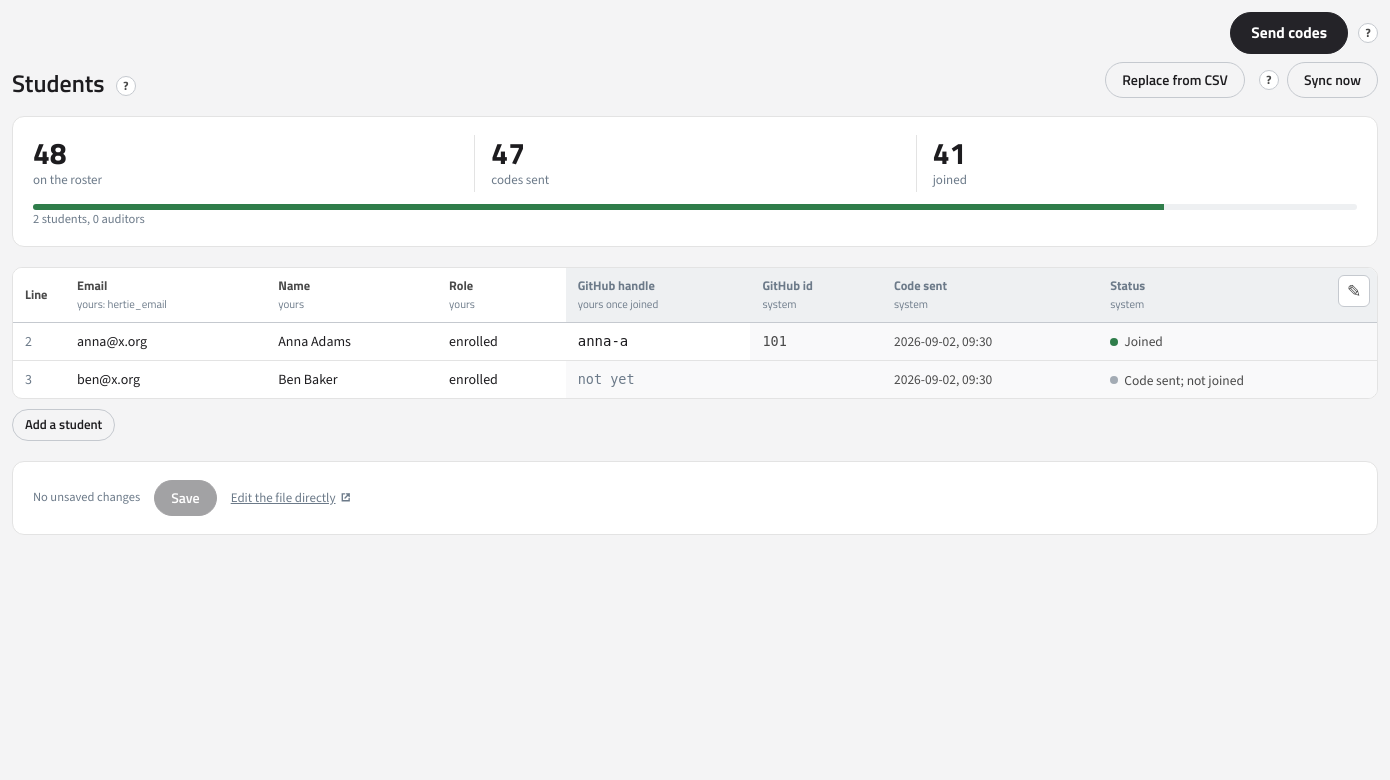
Test case: Save on the Students grid › writes nothing for a handle no GitHub account has
The width and height of the screenshot is (1390, 780).
Click the button named "Edit roster": [1354, 291] box [1338,275,1370,307]
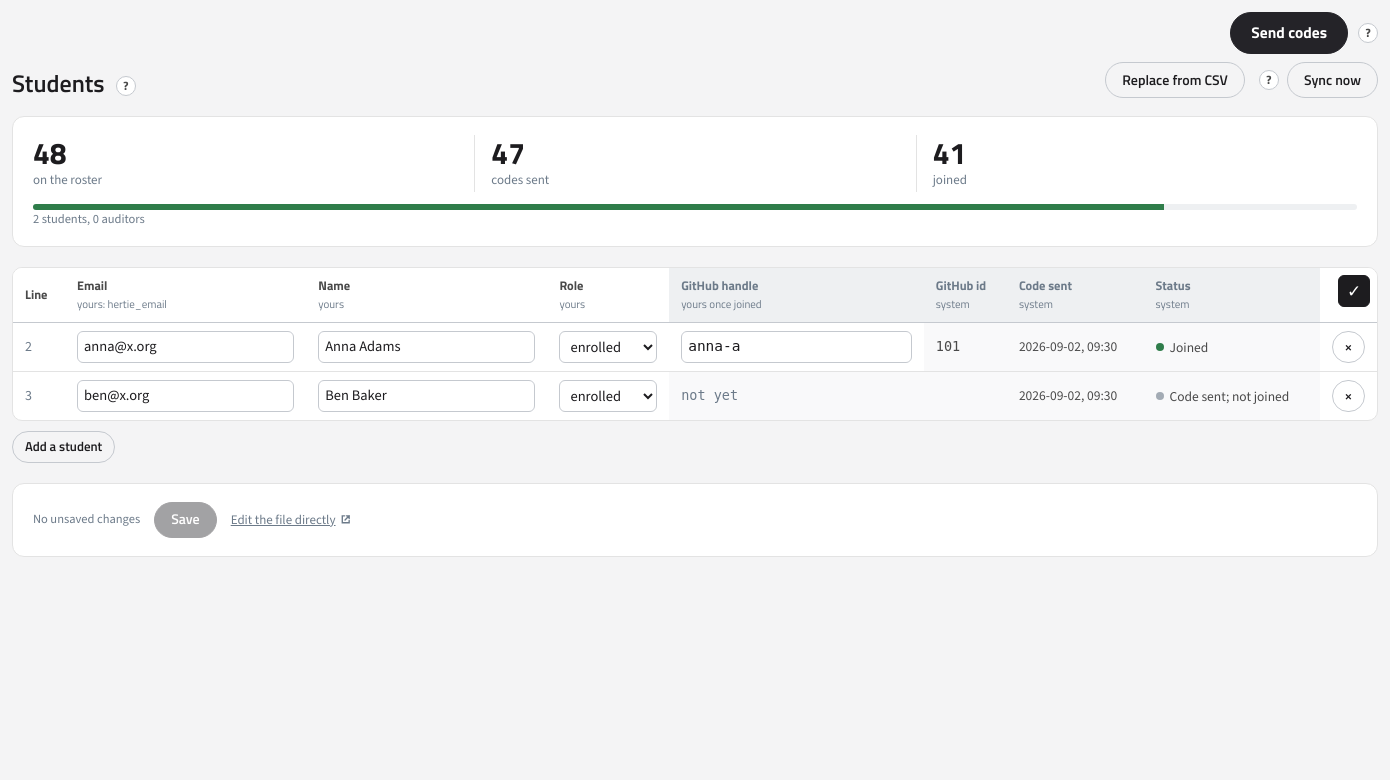
Replace the text in the field named "GitHub handle, line 2" with "nobody-here": [796, 346] box [681,330,912,362]
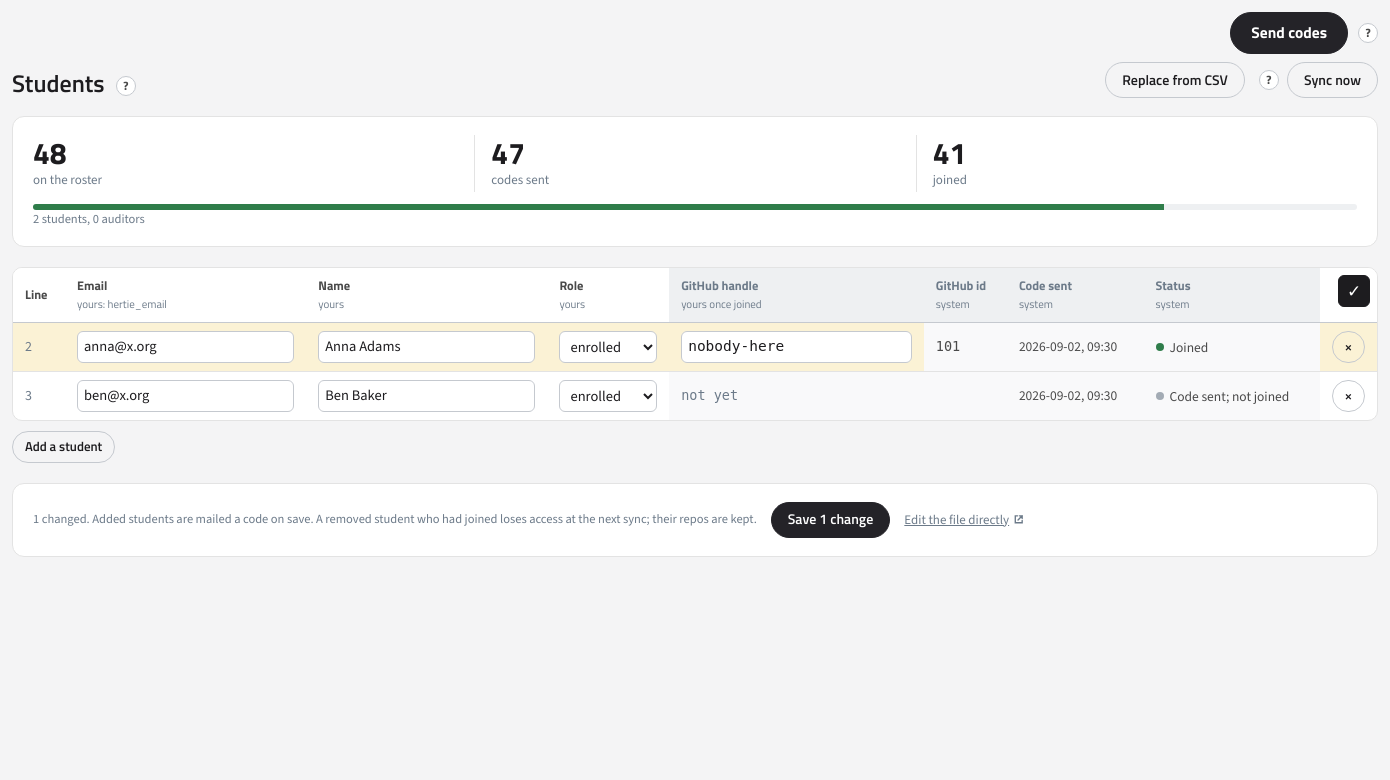
Click the button "Save 1 change": [831, 520] box [771,502,890,538]
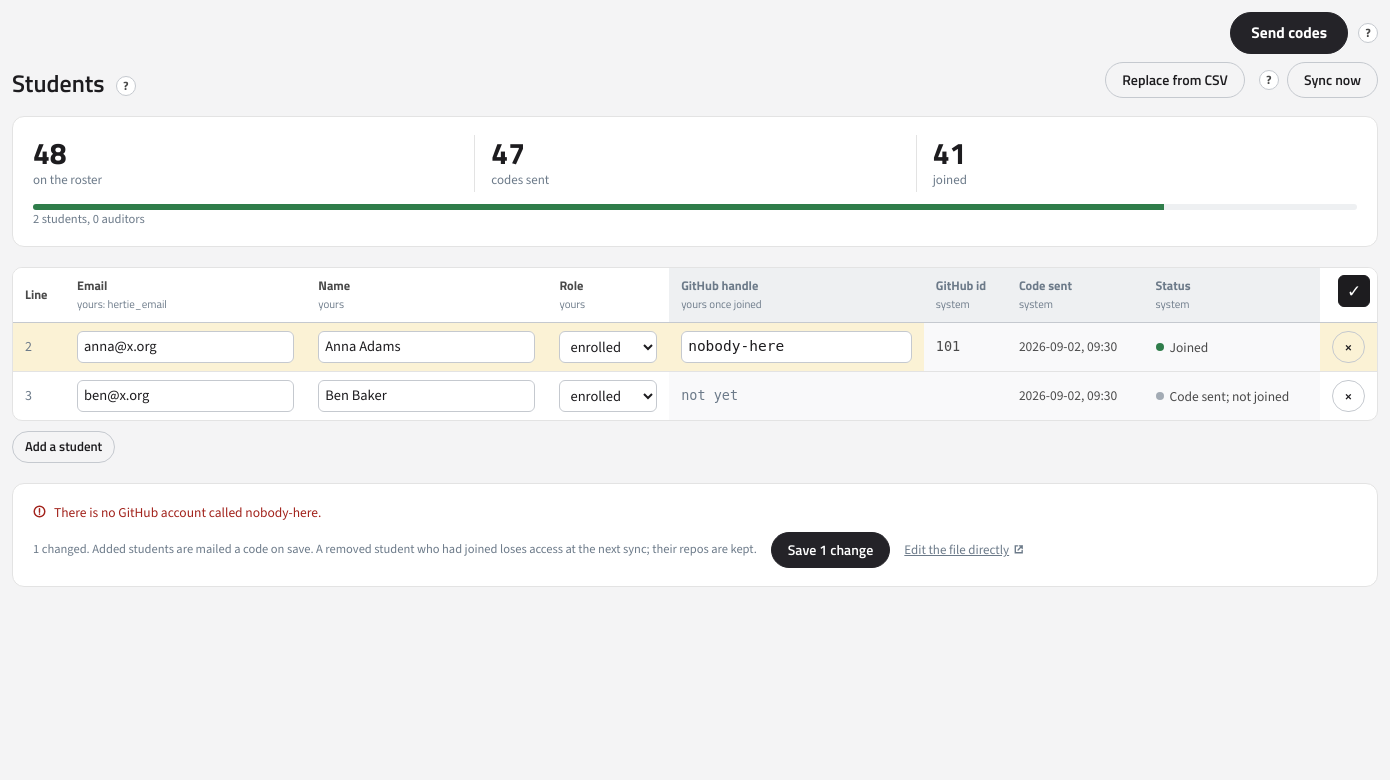
Expected: the text "There is no GitHub account called nobody-here." is shown, [54,502,321,522]
